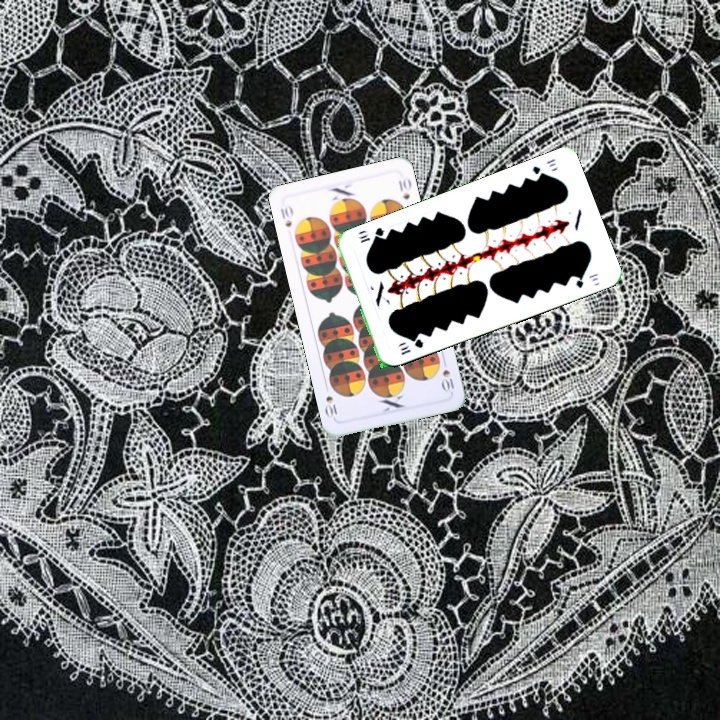G10: (528, 155, 558, 180), (395, 335, 426, 358)
S10: (438, 355, 457, 395), (276, 202, 295, 230)
